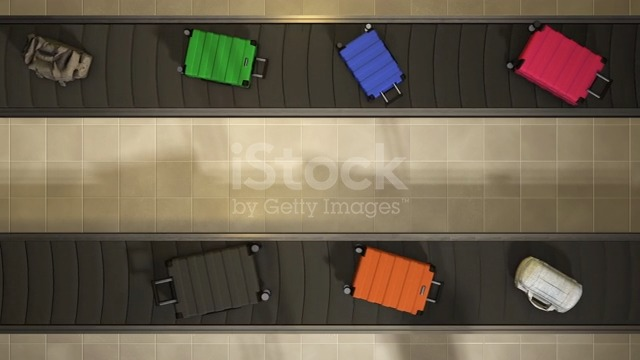Bag: (505, 19, 615, 109), (150, 242, 272, 320), (339, 240, 451, 318), (336, 23, 409, 112), (176, 25, 272, 90), (19, 29, 96, 93), (510, 255, 585, 318)
Handle: (151, 276, 178, 312), (585, 70, 615, 102), (378, 81, 406, 108), (249, 54, 271, 81), (423, 280, 446, 305)
Straps: (528, 291, 554, 311)
